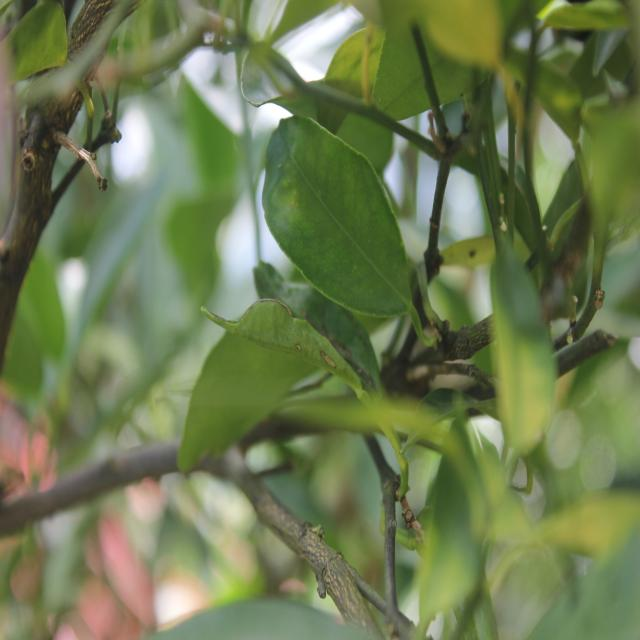canker: (264, 308, 380, 390)
